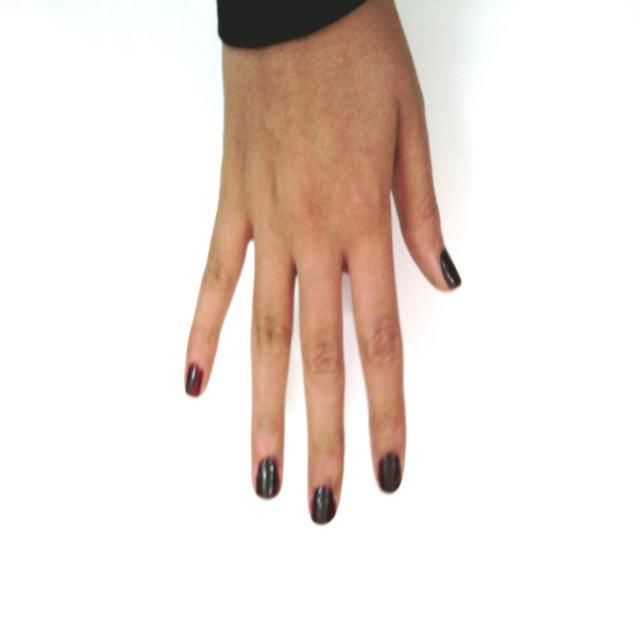Fingernail: (257, 459, 278, 499), (380, 454, 401, 493), (314, 485, 334, 524), (442, 251, 461, 287), (186, 364, 201, 397)
